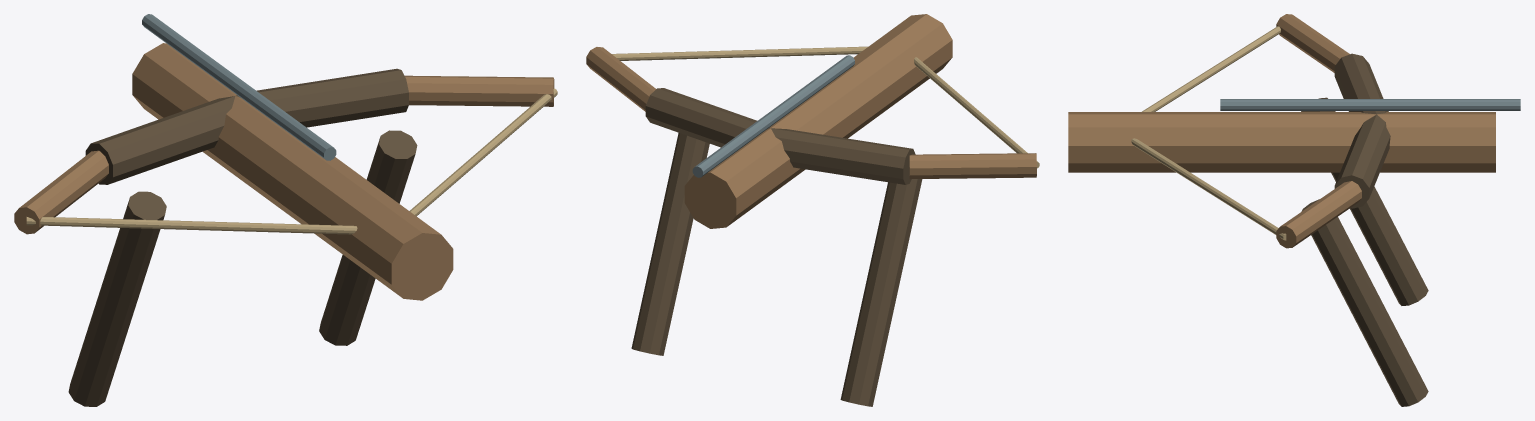
The model's file is crossbow.glb.
3 renders of one model, left to right at view 1: azimuth 30°, elevation 25°; view 2: azimuth 150°, elevation 25°; view 3: azimuth 270°, elevation 25°, orthographic. The views are drawn at different scales.
Parts seen in each view (by area): view 1: GEO-crossbow-36, GEO-crossbow-48, GEO-crossbow-24, GEO-crossbow-12; view 2: GEO-crossbow-48, GEO-crossbow-36, GEO-crossbow-24, GEO-crossbow-12; view 3: GEO-crossbow-36, GEO-crossbow-48, GEO-crossbow-12, GEO-crossbow-24.
Part boxes in pixels (x1,y1,x2,y2): GEO-crossbow-36: (14,43,554,300); GEO-crossbow-48: (68,68,417,406); GEO-crossbow-24: (26,88,557,234); GEO-crossbow-12: (142,14,336,160); GEO-crossbow-48: (631,88,922,406); GEO-crossbow-36: (586,14,1036,228); GEO-crossbow-24: (612,46,1039,168); GEO-crossbow-12: (692,55,854,177); GEO-crossbow-36: (1068,14,1495,248); GEO-crossbow-48: (1301,53,1428,406); GEO-crossbow-12: (1220,99,1520,110); GEO-crossbow-24: (1131,26,1286,240).
Size of the model in its own units: 1.25 by 0.682 by 1.1.
